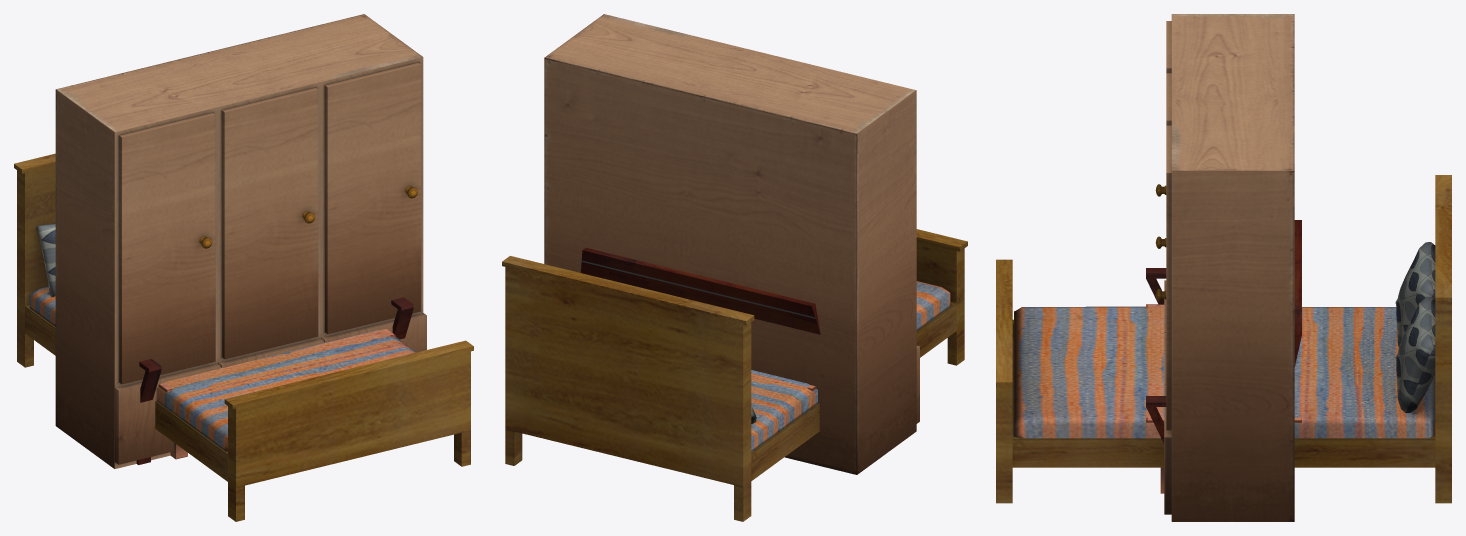
File: fbx_furniiture_set03.fbx
3 views of the same model, side by side, from view 1: azimuth 30°, elevation 25°; view 2: azimuth 150°, elevation 25°; view 3: azimuth 270°, elevation 25° (orthographic). The views are drawn at different scales.
Visible parts, largest first — view 1: cabinetBased, furniture_bedRoom_bed_set03, cabinetDoor_02, cabinetDoor_03, cabinetDoor_01, cabinetDoor_06, furniture_bedRoom_sofa_set03, cabinetDoor_04, cabinetDoor_05; view 2: cabinetBased, furniture_bedRoom_bed_set03, furniture_bedRoom_sofa_set03; view 3: cabinetBased, furniture_bedRoom_bed_set03, furniture_bedRoom_sofa_set03, cabinetDoor_01, cabinetDoor_04.
Boxes of the visible parts, x1,y1,x2,y2 form: cabinetBased: (55, 14, 423, 468); furniture_bedRoom_bed_set03: (14, 153, 473, 521); cabinetDoor_02: (222, 87, 318, 359); cabinetDoor_03: (119, 113, 215, 384); cabinetDoor_01: (325, 62, 421, 333); cabinetDoor_06: (115, 363, 220, 464); furniture_bedRoom_sofa_set03: (136, 297, 413, 464); cabinetDoor_04: (321, 313, 426, 352); cabinetDoor_05: (218, 338, 323, 367); cabinetBased: (544, 14, 916, 474); furniture_bedRoom_bed_set03: (502, 229, 967, 521); furniture_bedRoom_sofa_set03: (581, 247, 820, 334); cabinetBased: (1171, 14, 1294, 521); furniture_bedRoom_bed_set03: (996, 175, 1451, 503); furniture_bedRoom_sofa_set03: (1146, 220, 1301, 443); cabinetDoor_01: (1155, 125, 1171, 430); cabinetDoor_04: (1164, 385, 1171, 514).
Size of the model in its own units: 82.23 by 85.77 by 101.
